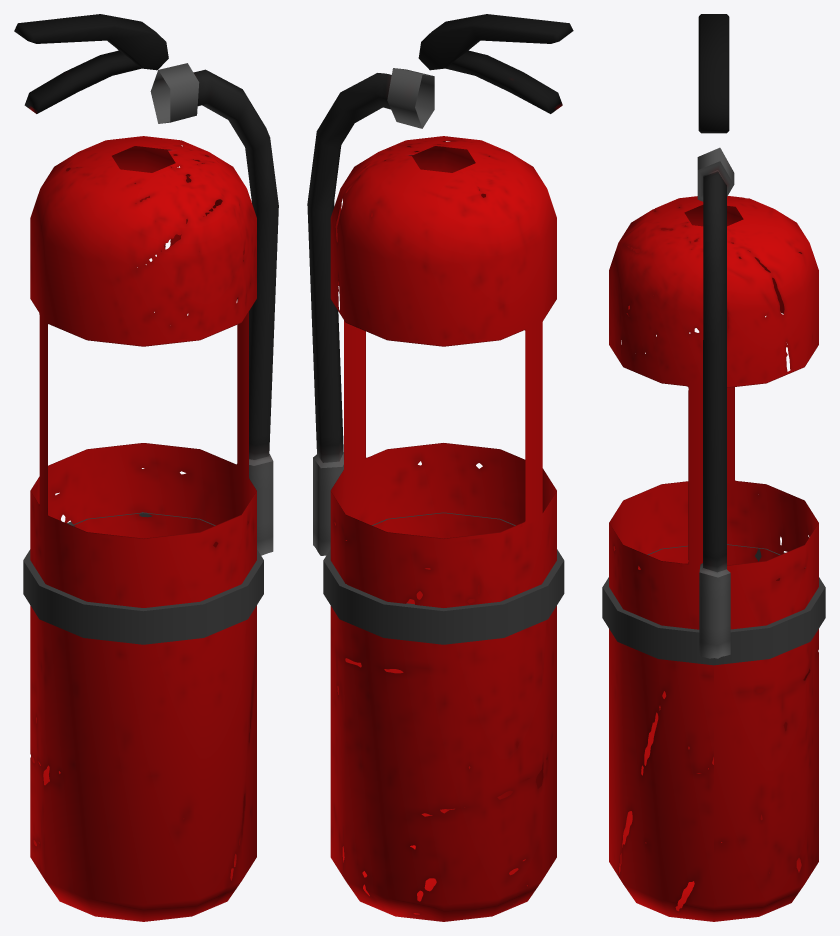
Rendered from fire_extinguisher_medium.fbx.
3 renders of one model, left to right at view 1: azimuth 30°, elevation 25°; view 2: azimuth 150°, elevation 25°; view 3: azimuth 270°, elevation 25°, orthographic. The views are drawn at different scales.
Visible parts, largest first — view 1: fire_extinguisher_medium; view 2: fire_extinguisher_medium; view 3: fire_extinguisher_medium.
Part boxes in pixels (x1=…): fire_extinguisher_medium: x1=14, y1=14, x2=278, y2=921; fire_extinguisher_medium: x1=307, y1=14, x2=573, y2=921; fire_extinguisher_medium: x1=602, y1=14, x2=825, y2=921.
Size of the model in its own units: 29.45 by 96.41 by 23.87.
